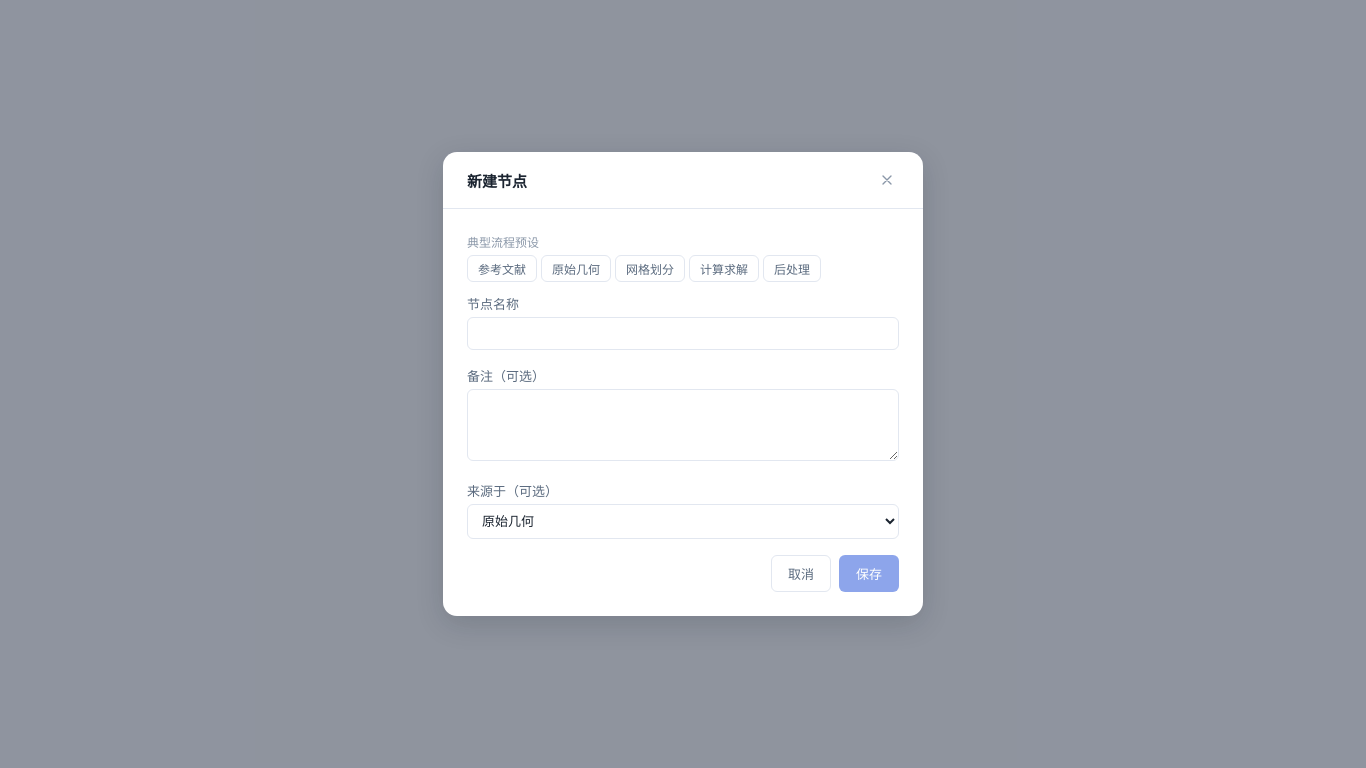
Test: NodeEditDialog 预设 chips（US2 / FR-006~009） › fills name on preset click and keeps prefilled parent unchanged
Expected: the field labelled "节点名称" is empty, [467,317,899,350]
Click the button "网格划分".
click(650, 268)  # box [615,255,685,282]
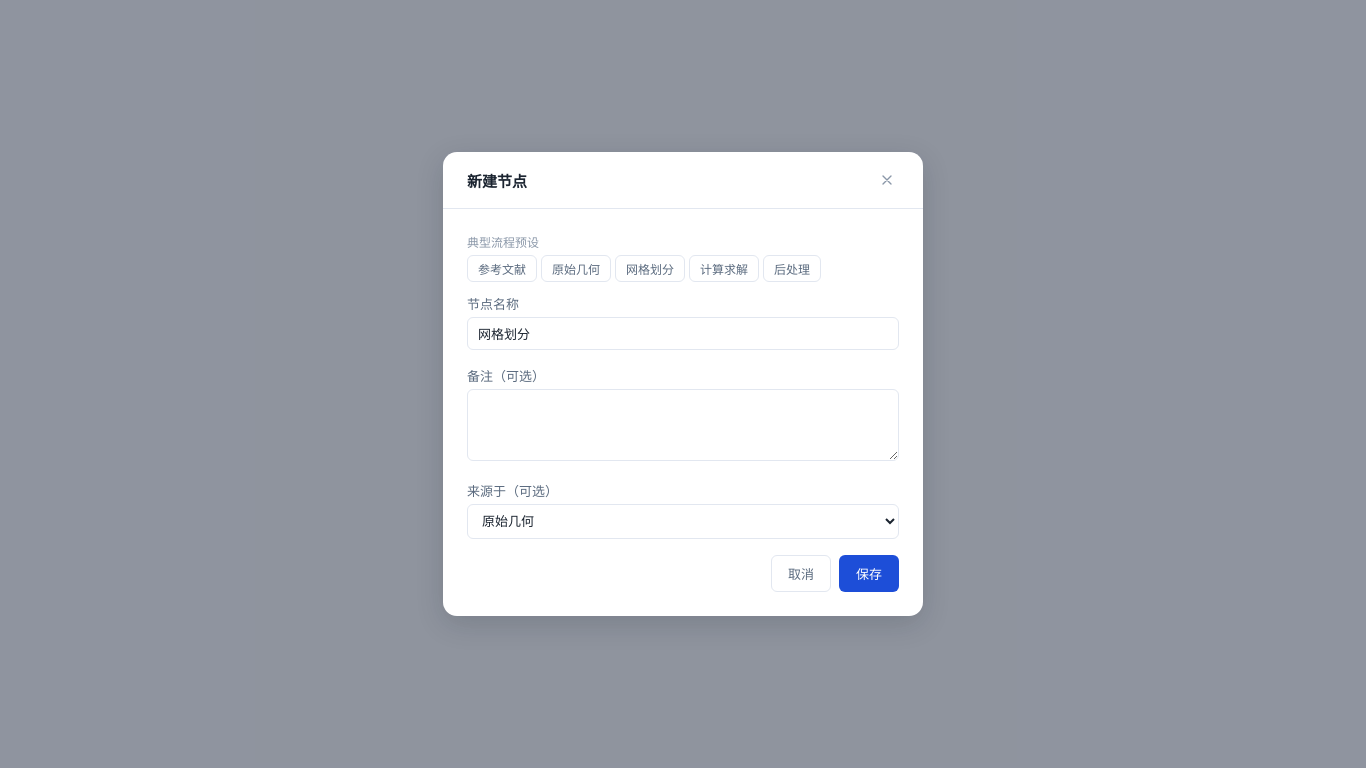
Expected: the dropdown labelled "来源于（可选）" shows "原始几何", [467,504,899,539]
Now the field labelled "节点名称" holds "网格划分", box [467,317,899,350]
